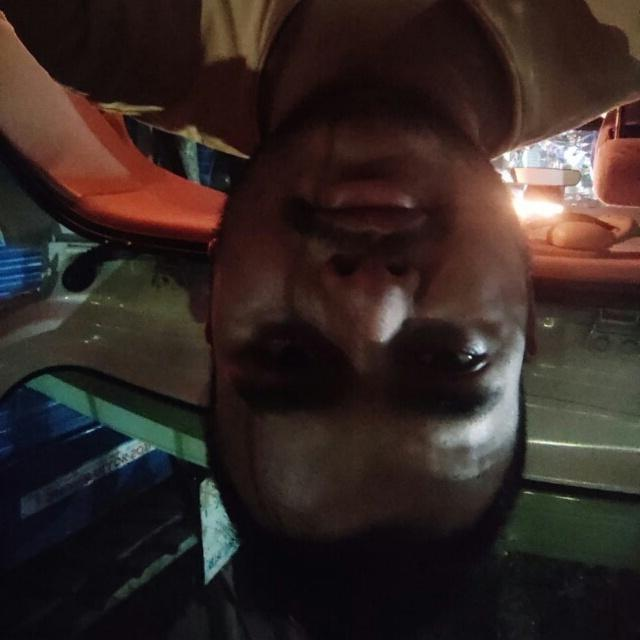Natural: (123, 79, 578, 551)
